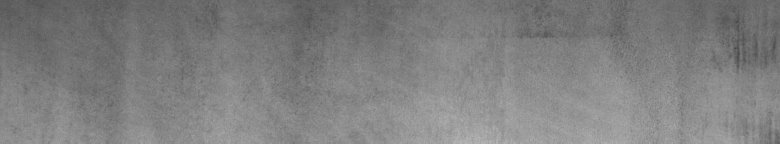ka: (727, 40, 760, 68)
